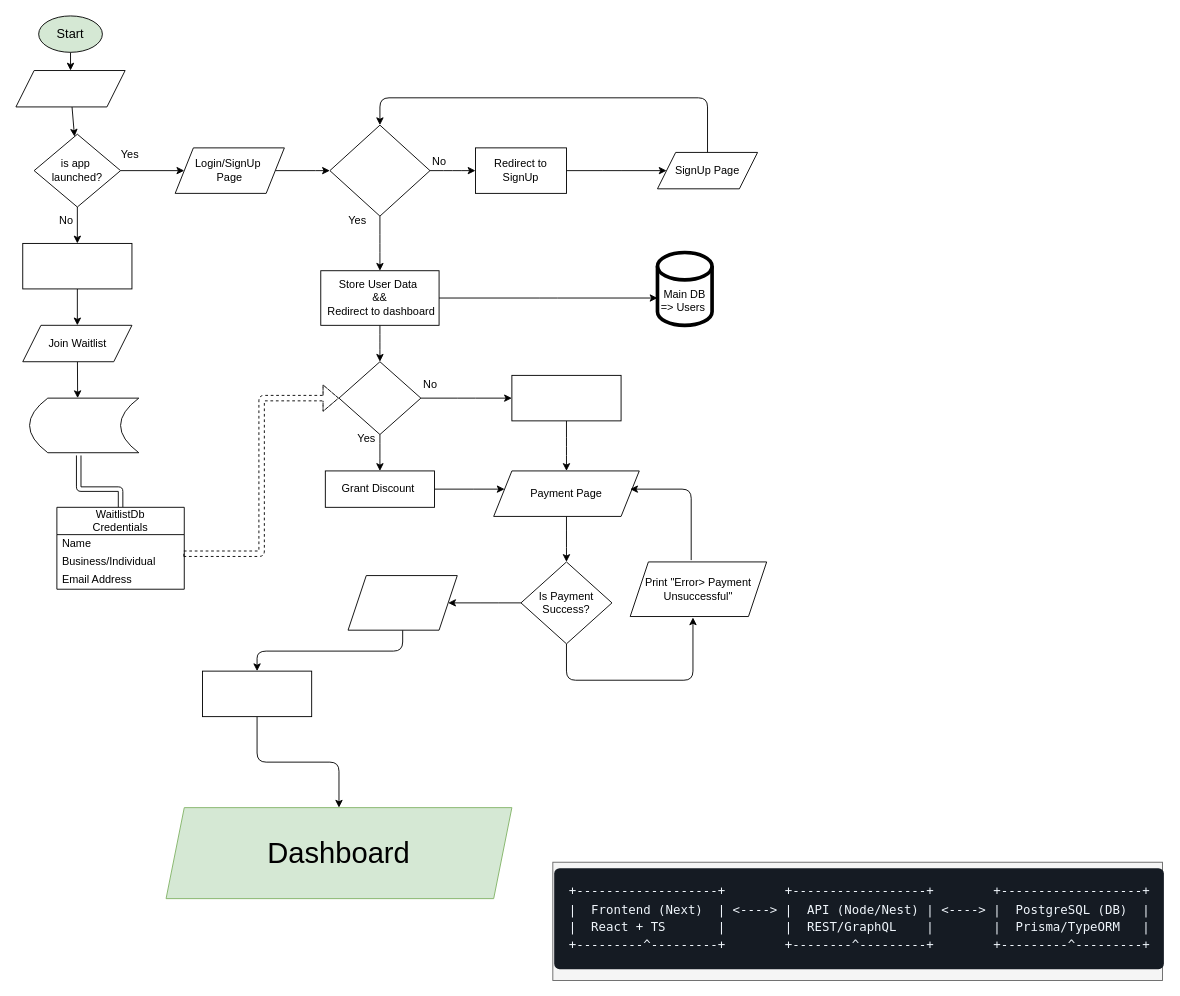
Some shapes in this 1180 by 996 pixel diagram are drawn without their labels. The shapes that lost their labels are listed below. From the top down, each one's box as (x1, y1, x2, y2) in pixels, then its label:
(15, 70, 125, 107): Landing Page
(329, 124, 430, 216): Is User Authenticated?
(22, 243, 132, 289): redirect to waitlist
(338, 361, 421, 435): Is User Waitlisted?
(511, 374, 621, 421): Redirect to Payment (No Discount)
(29, 397, 139, 453): Waitlisted Users
(347, 575, 457, 630): User OnBoarding Page
(202, 670, 312, 717): Redirect to Dashboard
